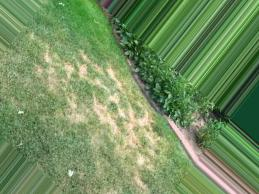patch: (98, 105, 113, 123), (79, 65, 92, 79), (136, 119, 150, 131), (50, 75, 57, 84)
